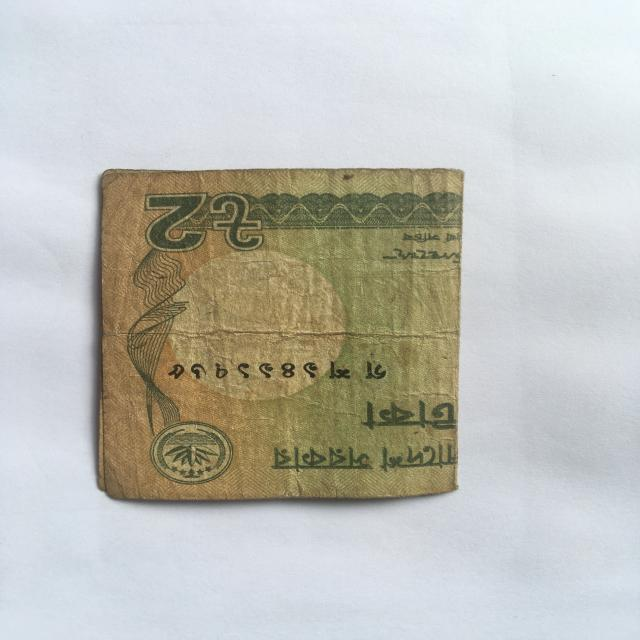Taka: (78, 148, 460, 510)
